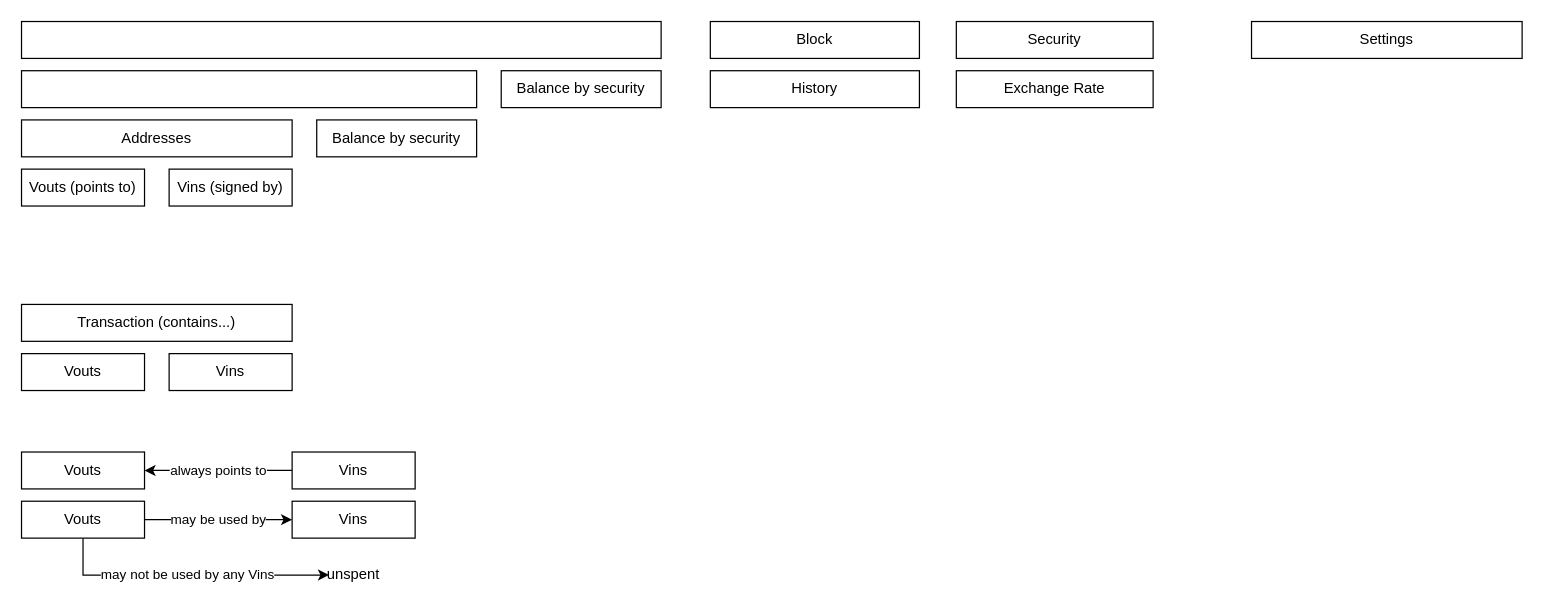
Image size: 1544x609. Some labels were removed from this diagram. Each missing label, with the box of its shape:
Account: (20, 20, 661, 58)
Wallets: (20, 69, 477, 108)
